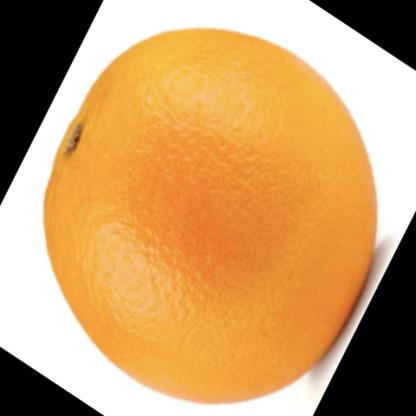fresh: (44, 32, 376, 402)
